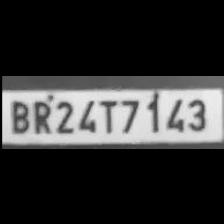1: (139, 94, 161, 132)
2: (50, 96, 74, 132)
3: (184, 94, 208, 130)
4: (73, 96, 97, 132), (162, 94, 186, 130)
7: (116, 95, 140, 133)
B: (5, 96, 29, 132)
R: (28, 96, 50, 134)
T: (97, 95, 117, 133)
